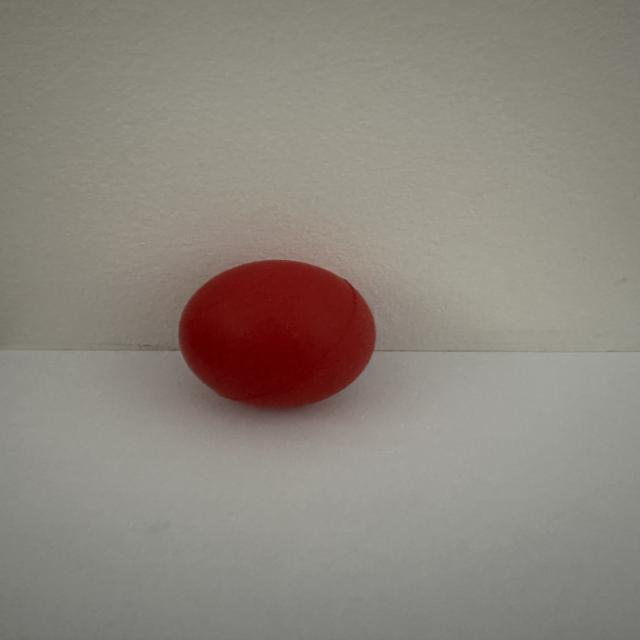red_ball: (158, 226, 414, 427)
